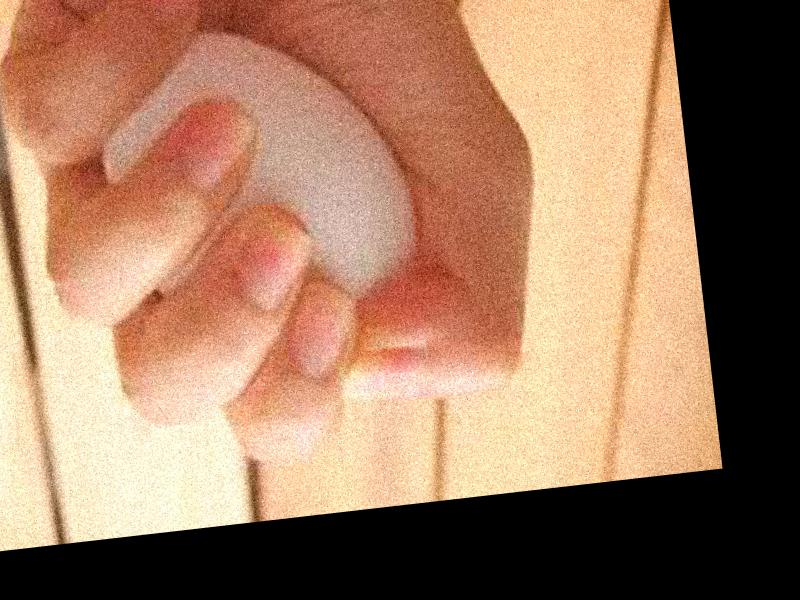Eggs: (87, 10, 426, 325)
